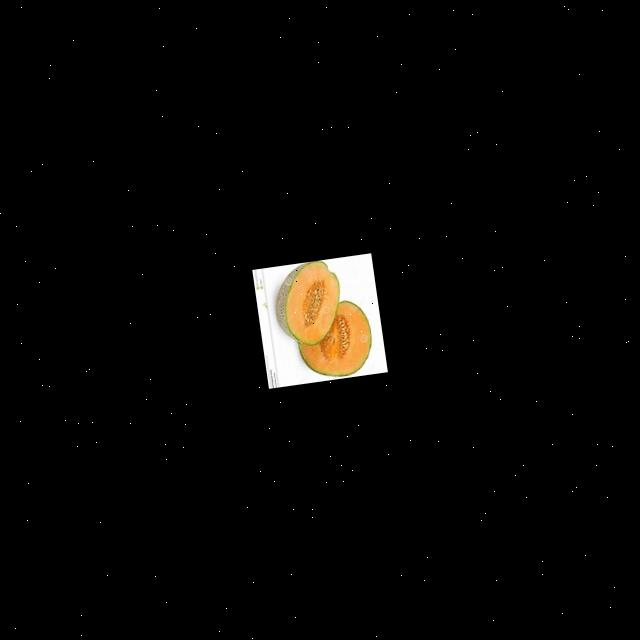Hami Melon: (292, 296, 377, 381), (270, 257, 348, 349)
